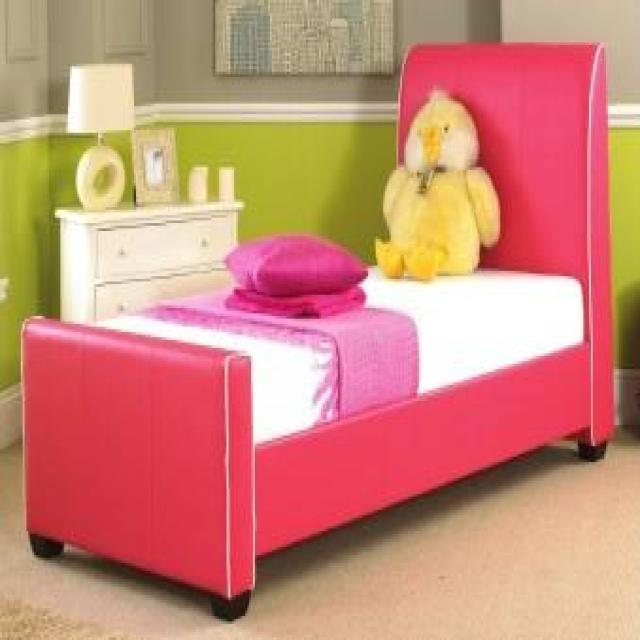bed: (19, 37, 615, 619)
table: (53, 196, 243, 324)
